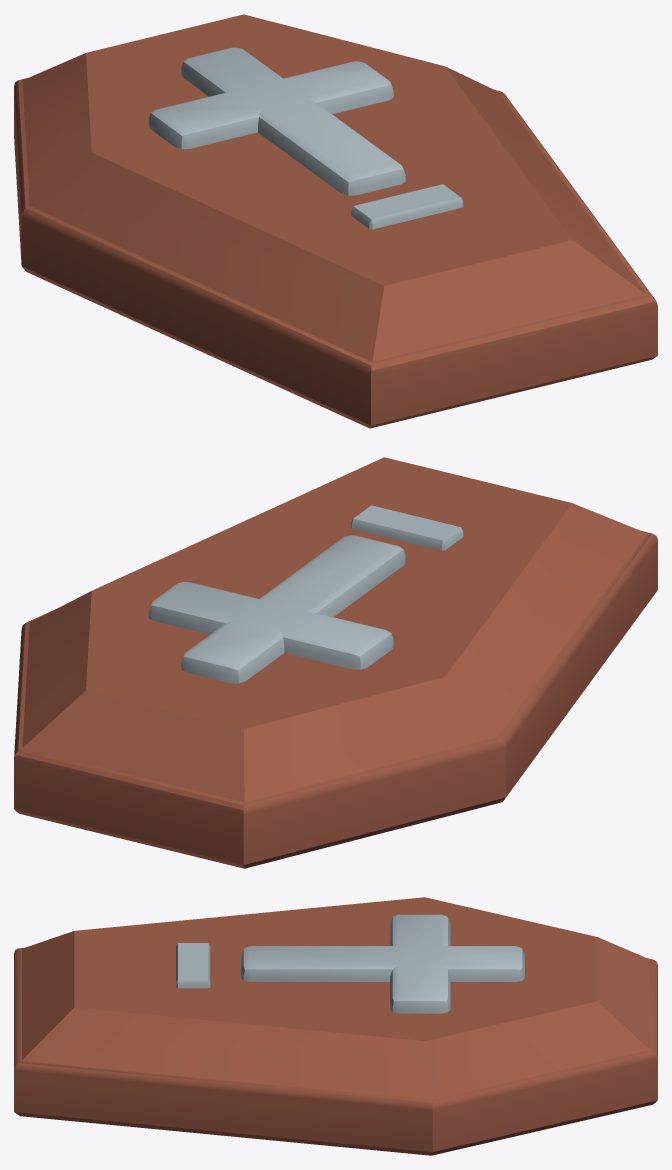
File: coffinA_top.fbx
3 renders of one model, top to bottom at view 1: azimuth 30°, elevation 25°; view 2: azimuth 150°, elevation 25°; view 3: azimuth 270°, elevation 25°, orthographic. The views are drawn at different scales.
Parts seen in each view (by area): view 1: coffinA_top; view 2: coffinA_top; view 3: coffinA_top.
Boxes of the visible parts, x1=… form: coffinA_top: x1=14, y1=14, x2=657, y2=428; coffinA_top: x1=14, y1=457, x2=657, y2=868; coffinA_top: x1=14, y1=897, x2=657, y2=1155.
Size of the model in its own units: 1.45 by 0.3547 by 2.
